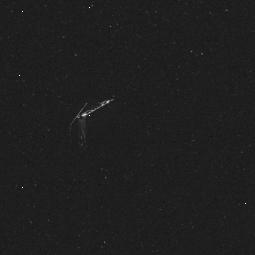lisa_pathfinder: (58, 87, 147, 166)
